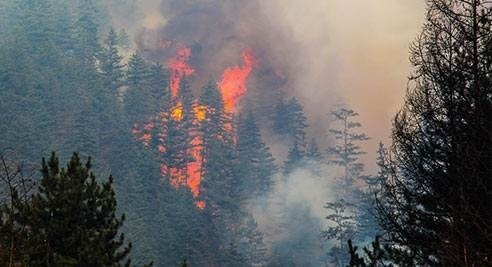fire: (142, 45, 257, 216)
